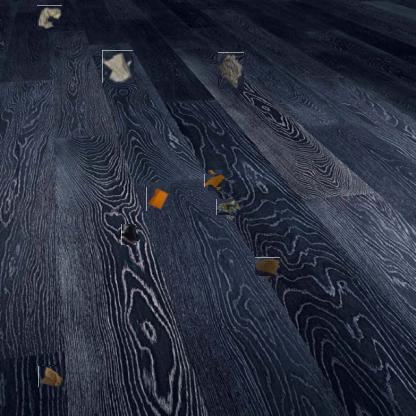dirty: (218, 52, 244, 89), (102, 51, 133, 82), (37, 5, 62, 31), (146, 187, 169, 211), (38, 365, 63, 387), (256, 256, 279, 278), (219, 197, 241, 218)
liquid: (120, 225, 138, 244), (206, 172, 224, 189)
